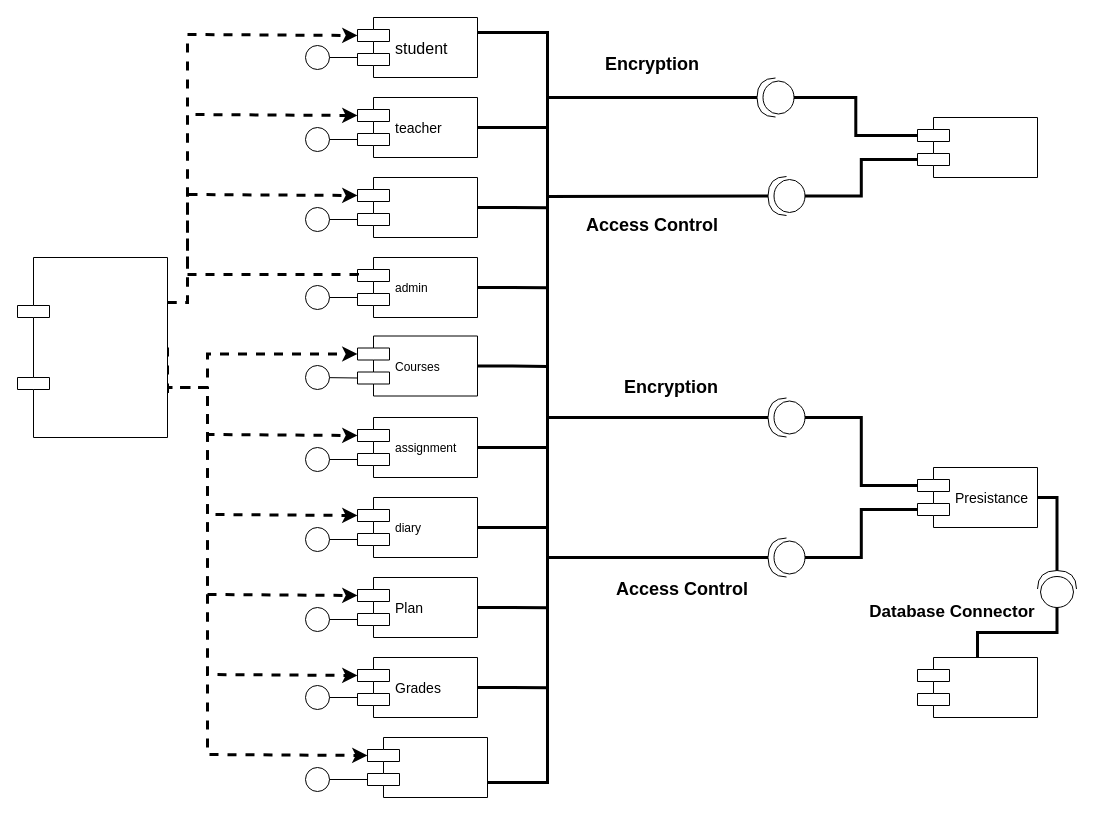
Image size: 1094x823. Some labels were removed from this diagram. Here are the shapes that lost their labels. From the top down, the centre of each, then its label:
At point 977,147: "Security".
At point 417,207: "guardian".
At point 92,347: "Teaching Managment System".
At point 977,687: "Database".
At point 427,767: "timetable".
